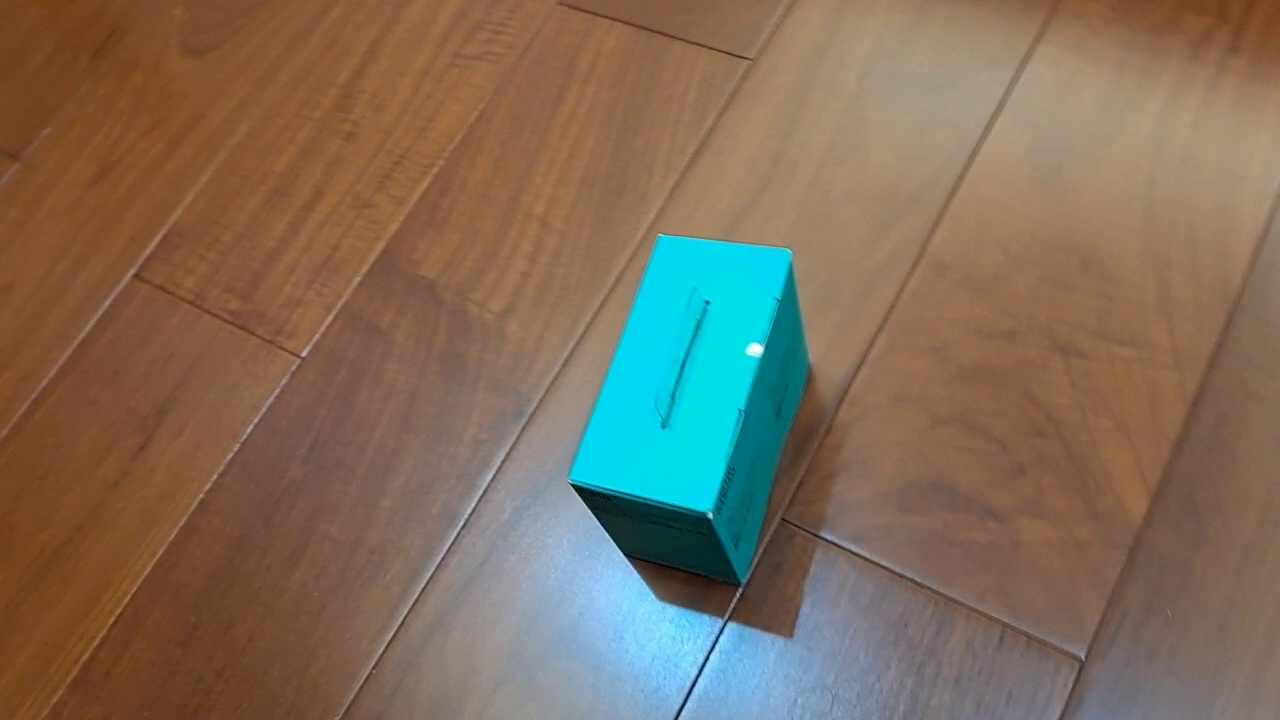webcam: (566, 231, 813, 589)
